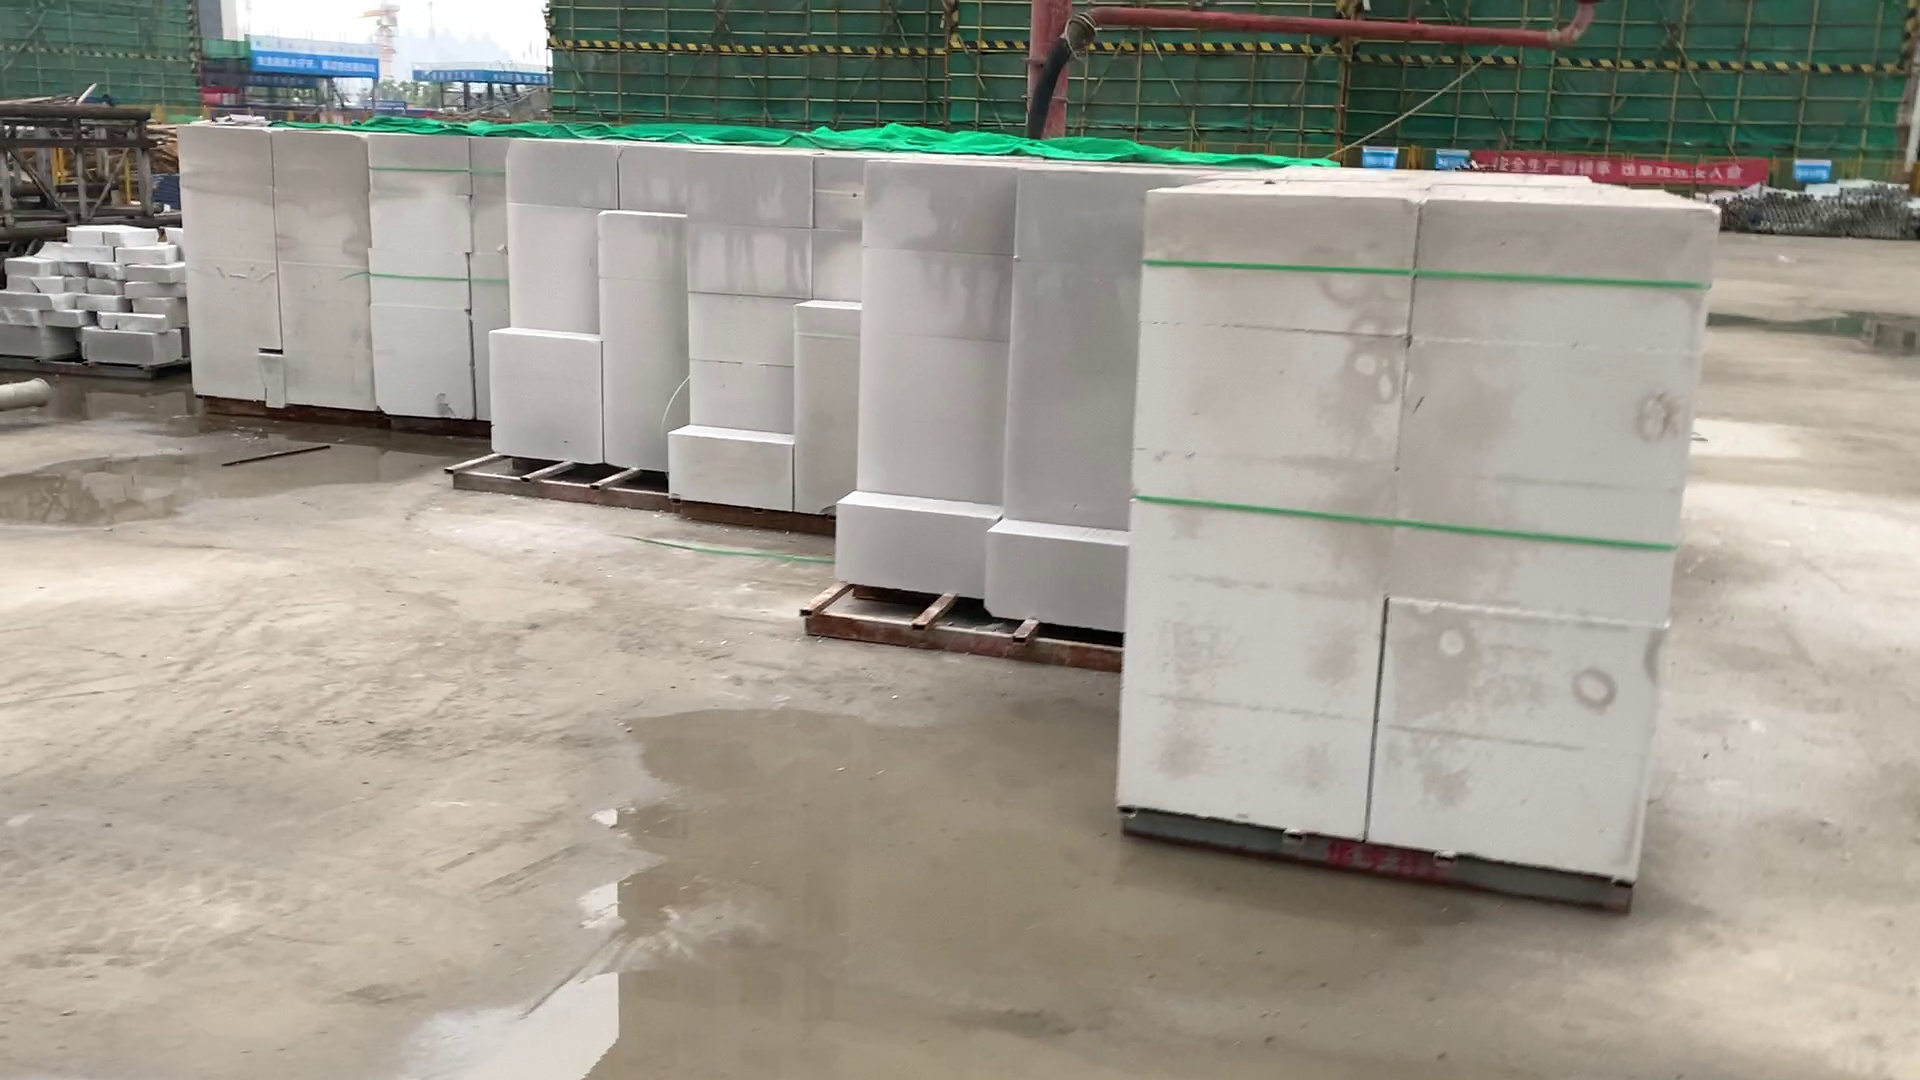brickwork: (1137, 185, 1720, 898), (857, 161, 1129, 632), (680, 152, 857, 508), (493, 150, 688, 469), (174, 127, 369, 415), (363, 135, 500, 422)
